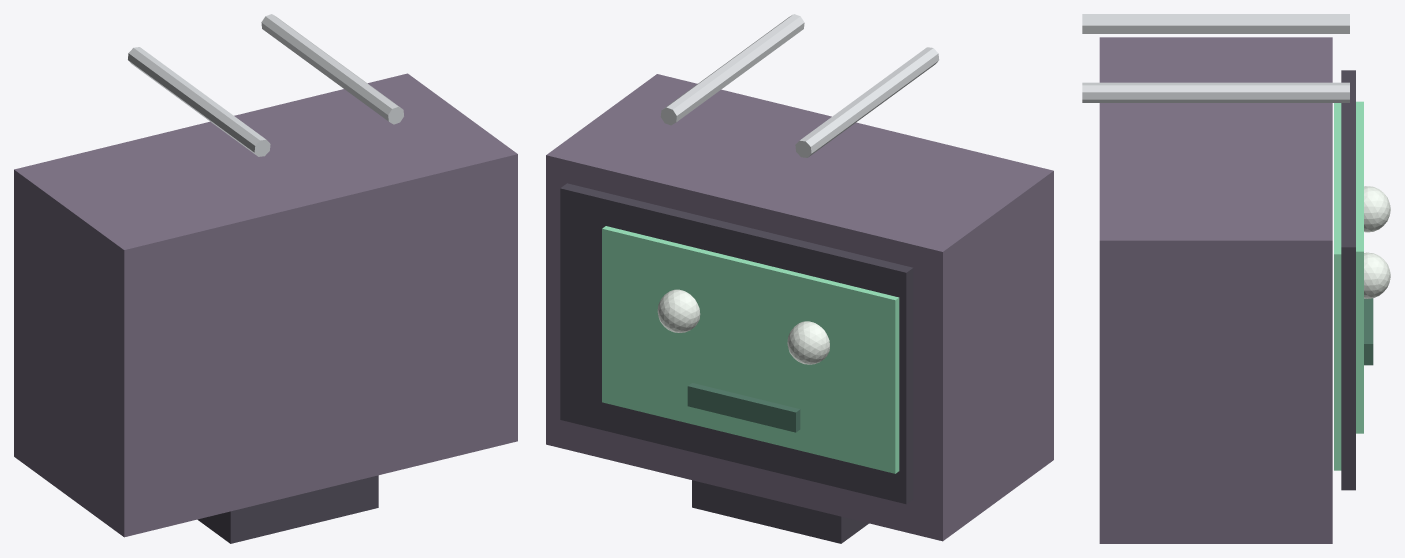
File: treasure_tv.glb
3 views of the same model, side by side, from view 1: azimuth 30°, elevation 25°; view 2: azimuth 150°, elevation 25°; view 3: azimuth 270°, elevation 25° (orthographic). The views are drawn at different scales.
Parts seen in each view (by area): view 1: TVBody, Foot, AntennaL, AntennaR; view 2: TVBody, GlowScreen, ScreenTrim, Foot, AntennaL, AntennaR, Mouth, Eye1, Eye2; view 3: TVBody, ScreenTrim, AntennaR, AntennaL, Screen, GlowScreen, Eye1, Eye2, Mouth.
Part boxes in pixels (x1,y1,x2,y2): TVBody: (14,73,517,537); Foot: (197,475,378,543); AntennaL: (128,47,270,156); AntennaR: (261,14,403,124); TVBody: (546,74,1053,541); GlowScreen: (602,226,899,473); ScreenTrim: (560,183,913,504); Foot: (692,480,868,543); AntennaL: (795,47,939,157); AntennaR: (660,14,804,125); Mouth: (687,383,800,432); Eye1: (787,321,829,364); Eye2: (657,289,700,332); TVBody: (1099,37,1332,543); ScreenTrim: (1341,70,1355,490); AntennaR: (1082,82,1349,102); AntennaL: (1082,14,1349,33); Screen: (1334,103,1341,470); GlowScreen: (1356,101,1363,433); Eye1: (1364,186,1390,232); Eye2: (1364,252,1390,298); Mouth: (1364,298,1373,365).
Size of the model in its own units: 1.65 by 1.68 by 1.06.
